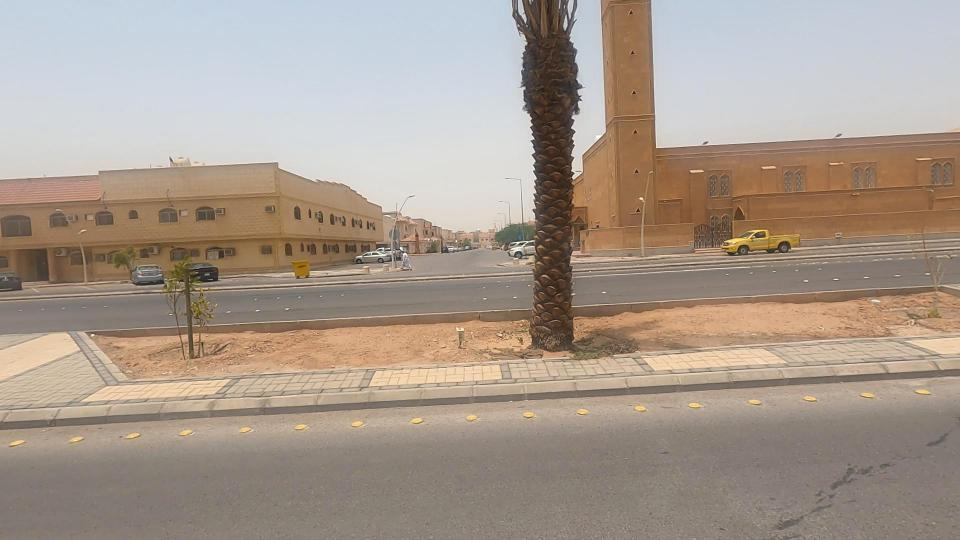CLUTTER_SIDEWALK: (0, 269, 683, 410), (466, 232, 960, 424)
